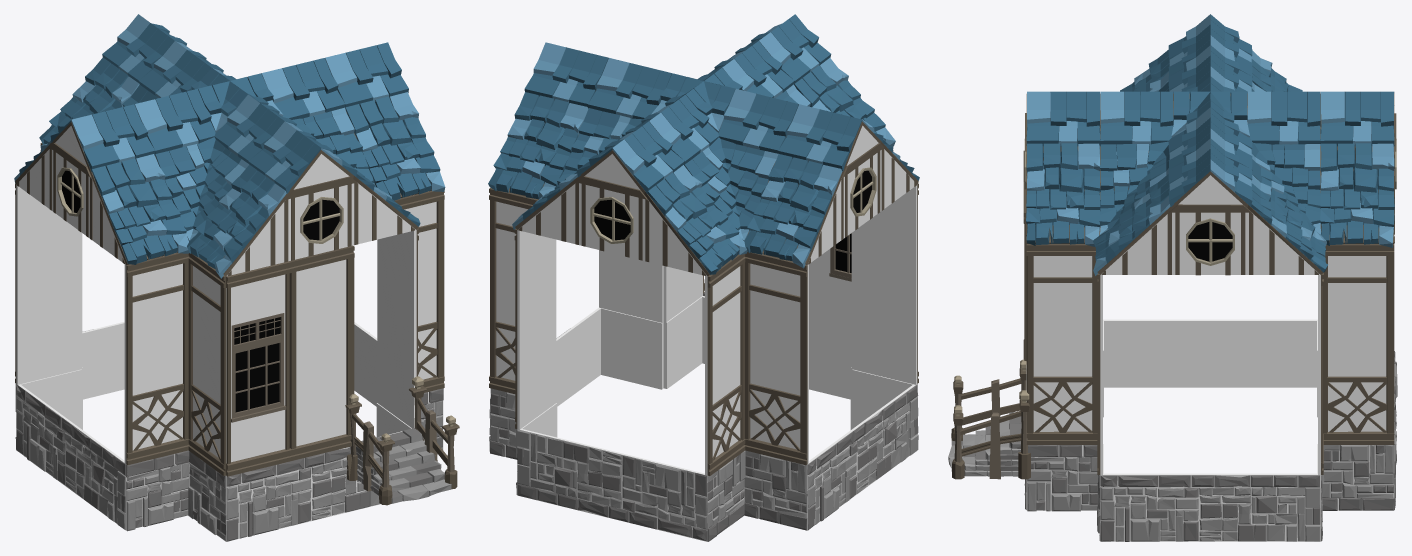
File: House_02_parts.glb
The picture shows the model from 3 angles, left to right: view 1: azimuth 30°, elevation 25°; view 2: azimuth 150°, elevation 25°; view 3: azimuth 270°, elevation 25°; orthographic projection.
Visible parts, largest first — view 1: WALL_04_3, WALL_03_2, WINDOW_04_2, WALL_04_4, FOUNDATION_02_10, STAIRS_06_5, WALL_04_2, FOUNDATION_02_11, WALL_04_9, ROOF_base_3, ROOF_base_5, WALL_04_8 (+31 smaller); view 2: FOUNDATION_02_12, WALL_04_4, WALL_04_3, WALL_04_5, FOUNDATION_02_11, WALL_04_6, ROOF_base_9, ROOF_base_7, WALL_04_7, ROOF_base_8, ROOF_inner_corner_5, FOUNDATION_03_16 (+34 smaller); view 3: FOUNDATION_02_13, FOUNDATION_02_11, WALL_04_6, WALL_04_9, ROOF_base_4, ROOF_base_6, STAIRS_06_5, FOUNDATION_03_14, ROOF_Window_round_2, FOUNDATION_03_17, ROOF_inner_corner_4, ROOF_inner_corner_3 (+24 smaller).
Part boxes in pixels (x1,y1,x2,y2): WALL_04_3: [124, 252, 189, 465]; WALL_03_2: [289, 245, 354, 460]; WINDOW_04_2: [226, 261, 291, 476]; WALL_04_4: [15, 183, 81, 384]; FOUNDATION_02_10: [226, 431, 402, 541]; STAIRS_06_5: [345, 376, 459, 505]; WALL_04_2: [188, 253, 226, 475]; FOUNDATION_02_11: [16, 384, 126, 530]; WALL_04_9: [377, 228, 418, 428]; ROOF_base_3: [89, 154, 189, 264]; ROOF_base_5: [345, 92, 445, 200]; WALL_04_8: [394, 190, 444, 392]; FOUNDATION_02_12: [517, 428, 707, 541]; WALL_04_4: [744, 252, 808, 465]; WALL_04_3: [852, 183, 918, 384]; WALL_04_5: [705, 254, 745, 475]; FOUNDATION_02_11: [807, 384, 918, 530]; WALL_04_6: [514, 229, 556, 429]; ROOF_base_9: [744, 154, 843, 268]; ROOF_base_7: [488, 92, 588, 199]; WALL_04_7: [489, 188, 538, 393]; ROOF_base_8: [644, 165, 747, 276]; ROOF_inner_corner_5: [684, 137, 778, 240]; FOUNDATION_03_16: [599, 307, 663, 389]; FOUNDATION_02_13: [1100, 473, 1320, 541]; FOUNDATION_02_11: [1103, 319, 1317, 387]; WALL_04_6: [1323, 244, 1394, 444]; WALL_04_9: [1026, 244, 1097, 444]; ROOF_base_4: [1026, 142, 1100, 247]; ROOF_base_6: [1320, 143, 1394, 247]; STAIRS_06_5: [948, 359, 1030, 479]; FOUNDATION_03_14: [1322, 445, 1394, 510]; ROOF_Window_round_2: [1173, 212, 1247, 275]; FOUNDATION_03_17: [1026, 445, 1098, 511]; ROOF_inner_corner_4: [1251, 141, 1320, 234]; ROOF_inner_corner_3: [1099, 141, 1169, 234].
Bounding box in the file's own units: 5.09 × 5.59 × 6.11.
1 material, 1 textured.
